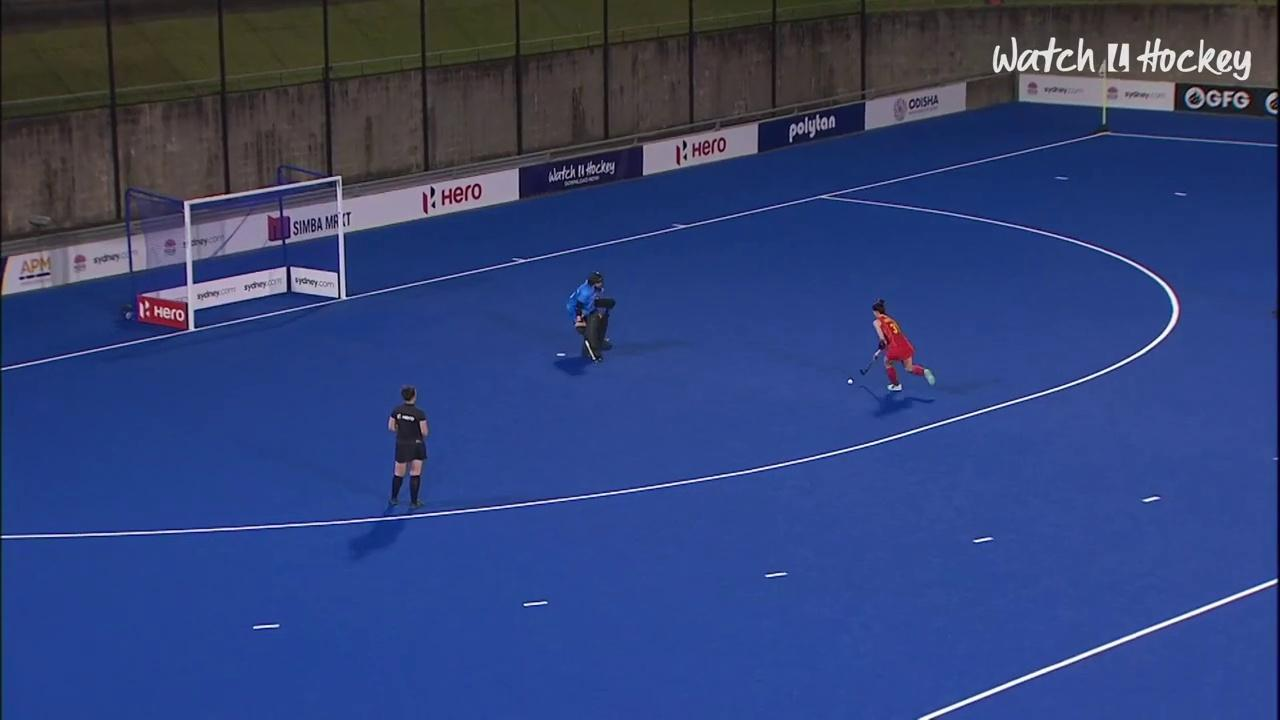ball: (842, 376, 857, 388)
